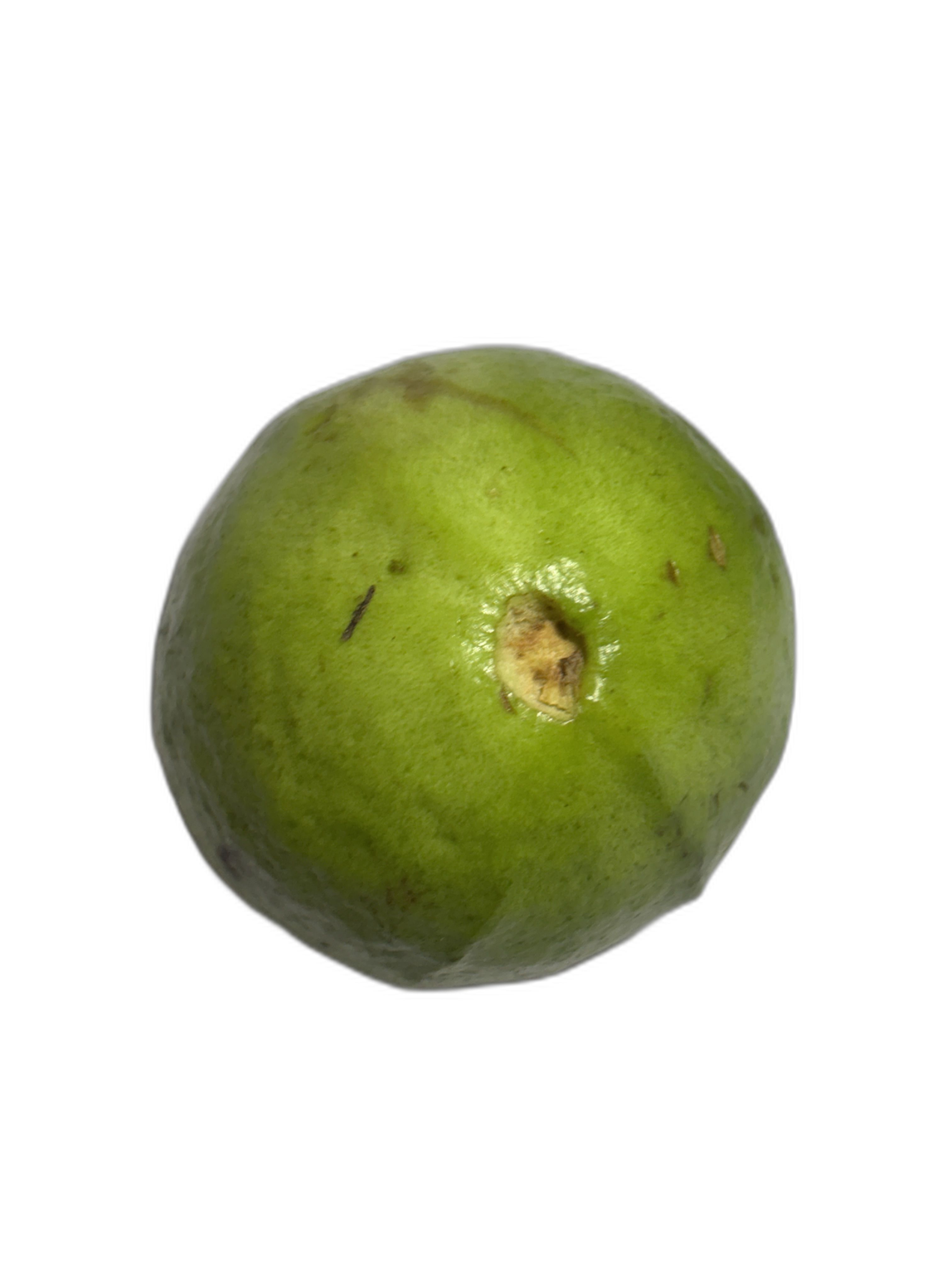guava: (138, 204, 781, 1049)
